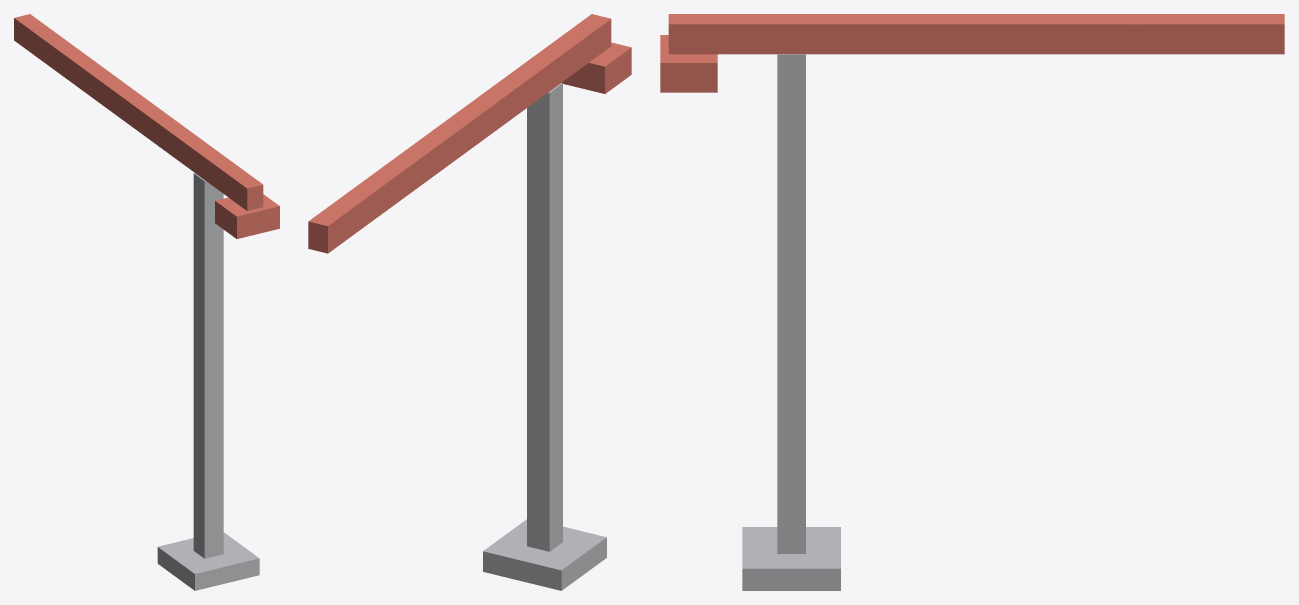
Rendered from crane.glb.
The picture shows the model from 3 angles, left to right: view 1: azimuth 30°, elevation 25°; view 2: azimuth 150°, elevation 25°; view 3: azimuth 270°, elevation 25°; orthographic projection. The views are drawn at different scales.
Parts seen in each view (by area): view 1: mast, arm; view 2: mast, arm; view 3: arm, mast.
Boxes of the visible parts, x1,y1,x2,y2 form: mast: [157, 173, 259, 590]; arm: [14, 14, 279, 238]; mast: [483, 83, 606, 590]; arm: [308, 14, 631, 253]; arm: [660, 14, 1284, 92]; mast: [742, 54, 840, 590].
Size of the model in its own units: 2.4 by 14.8 by 15.2.
